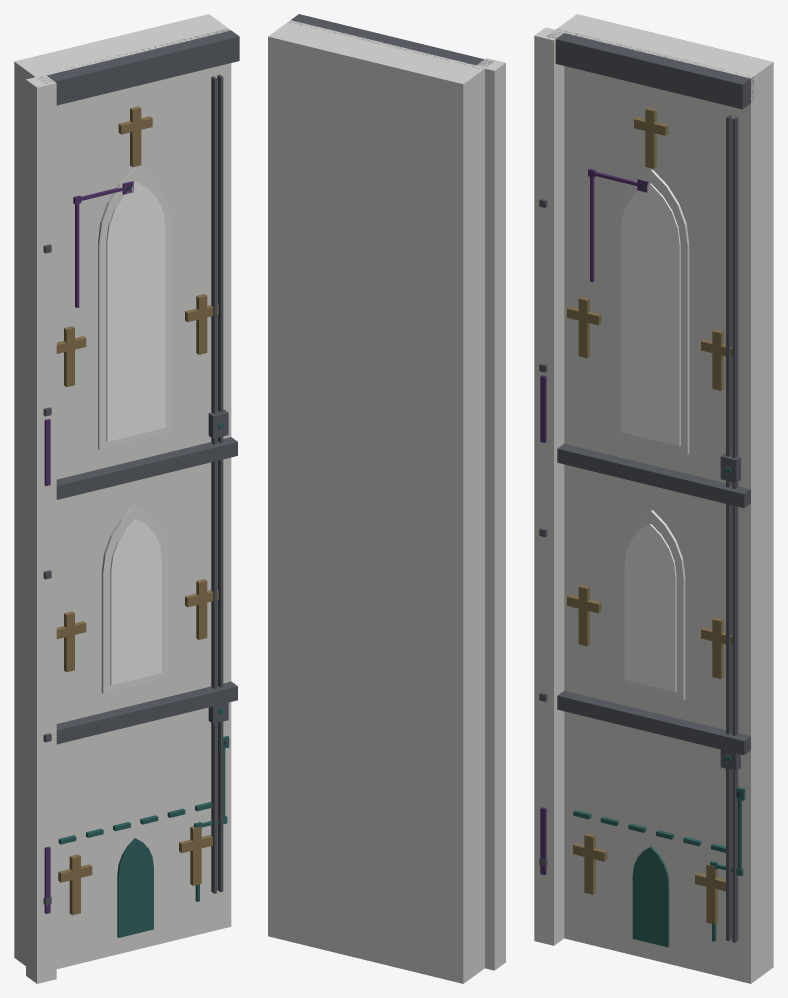
File: Wall_Window.fbx
The picture shows the model from 3 angles, left to right: view 1: azimuth 30°, elevation 25°; view 2: azimuth 150°, elevation 25°; view 3: azimuth 330°, elevation 25°; orthographic projection.
Parts seen in each view (by area): view 1: SM_Wall_Window; view 2: SM_Wall_Window; view 3: SM_Wall_Window.
Part boxes in pixels (x1,y1,x2,y2): SM_Wall_Window: (14, 14, 239, 983); SM_Wall_Window: (268, 14, 505, 983); SM_Wall_Window: (534, 14, 773, 983).
Size of the model in its own units: 5.25 by 22 by 1.53.
